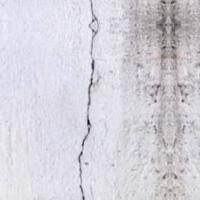crack: (66, 1, 111, 199)
